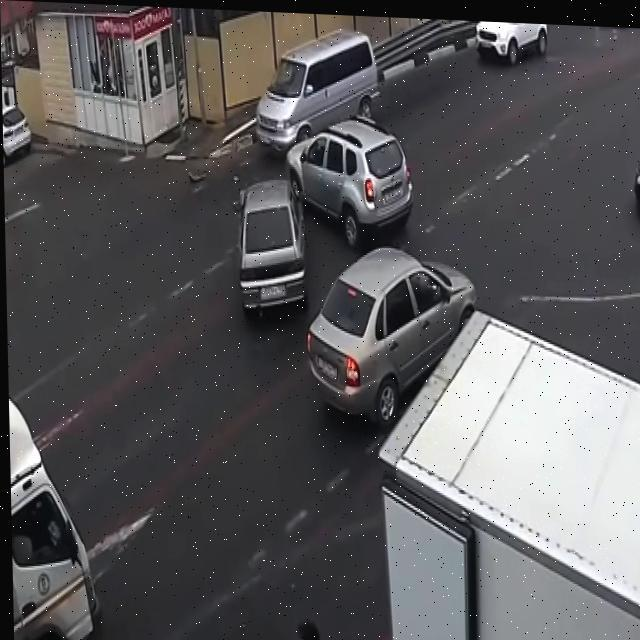multiple_accident: (220, 98, 427, 315)
normal: (285, 253, 507, 447)
